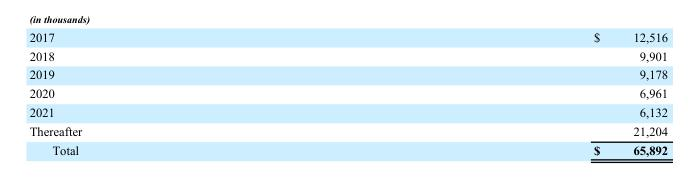table: (28, 29, 667, 156)
table column: (337, 29, 667, 156), (28, 29, 337, 156)
table row: (28, 45, 667, 64), (28, 64, 667, 83), (28, 83, 667, 102), (28, 102, 667, 121), (28, 121, 667, 140), (28, 29, 667, 45), (28, 140, 667, 156)
